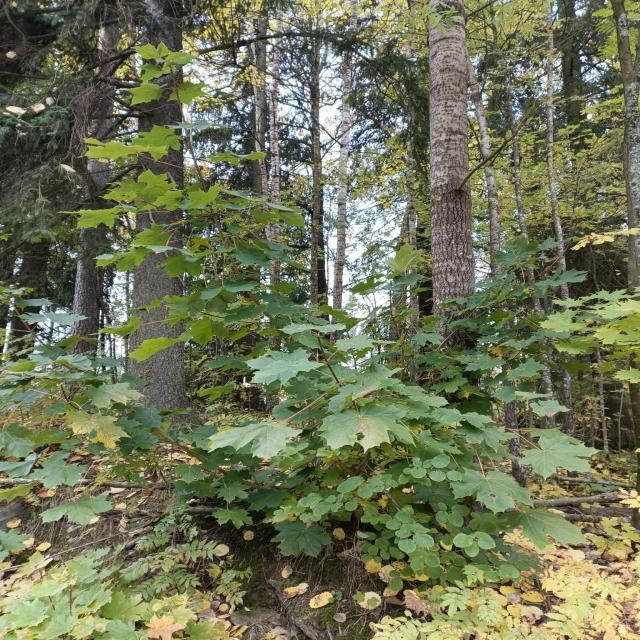Tree-detection: (65, 8, 606, 623)
